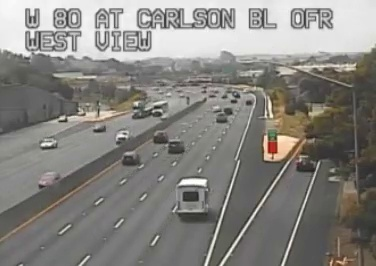bus: (176, 178, 207, 214)
car: (121, 152, 139, 166), (167, 140, 184, 154), (153, 131, 168, 143)
